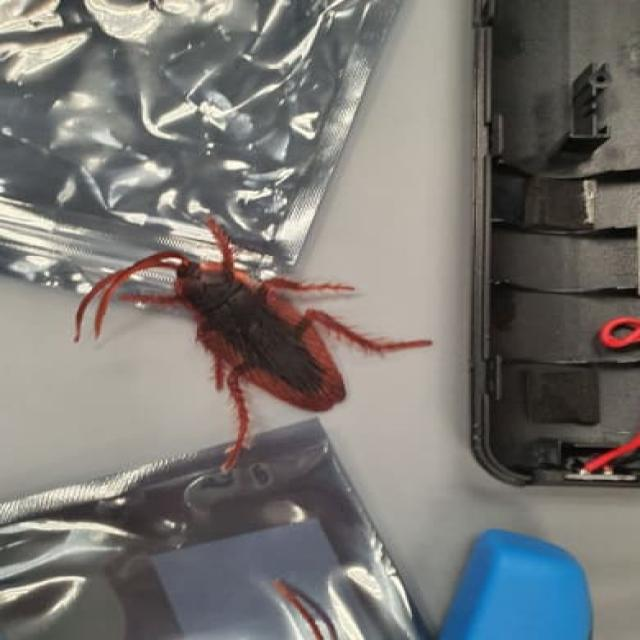Cockroach: (59, 214, 437, 480)
